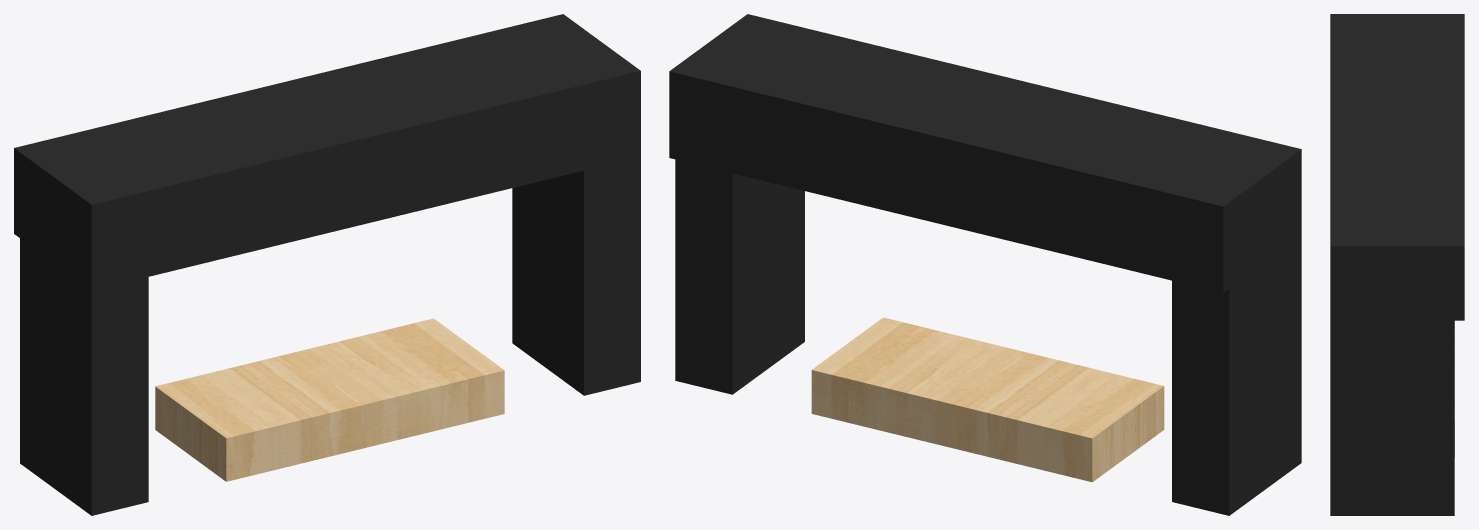
Rendered from bowling_track_back.fbx.
The picture shows the model from 3 angles, left to right: view 1: azimuth 30°, elevation 25°; view 2: azimuth 150°, elevation 25°; view 3: azimuth 270°, elevation 25°; orthographic projection. The views are drawn at different scales.
Visible parts, largest first — view 1: polySurface5; view 2: polySurface5; view 3: polySurface5.
Part boxes in pixels (x1,y1,x2,y2): polySurface5: (14,14,640,515); polySurface5: (669,14,1301,515); polySurface5: (1330,14,1464,515).
Bounding box in the file's own units: 15.8 × 8.55 × 3.87.
Materials: 2 (2 with a texture image).
